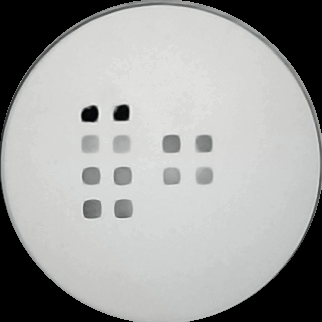检查点: (80, 198, 106, 221), (111, 165, 135, 189), (191, 132, 216, 155), (80, 163, 103, 188), (111, 198, 136, 221), (161, 131, 183, 155), (193, 165, 216, 187), (110, 134, 134, 155), (80, 133, 102, 155), (79, 103, 101, 124), (162, 165, 183, 186), (112, 102, 132, 123)
